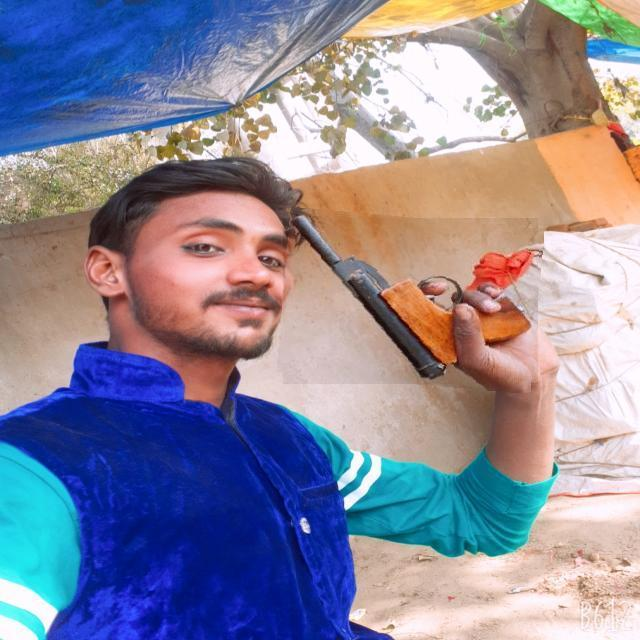handgun: (279, 213, 542, 389)
